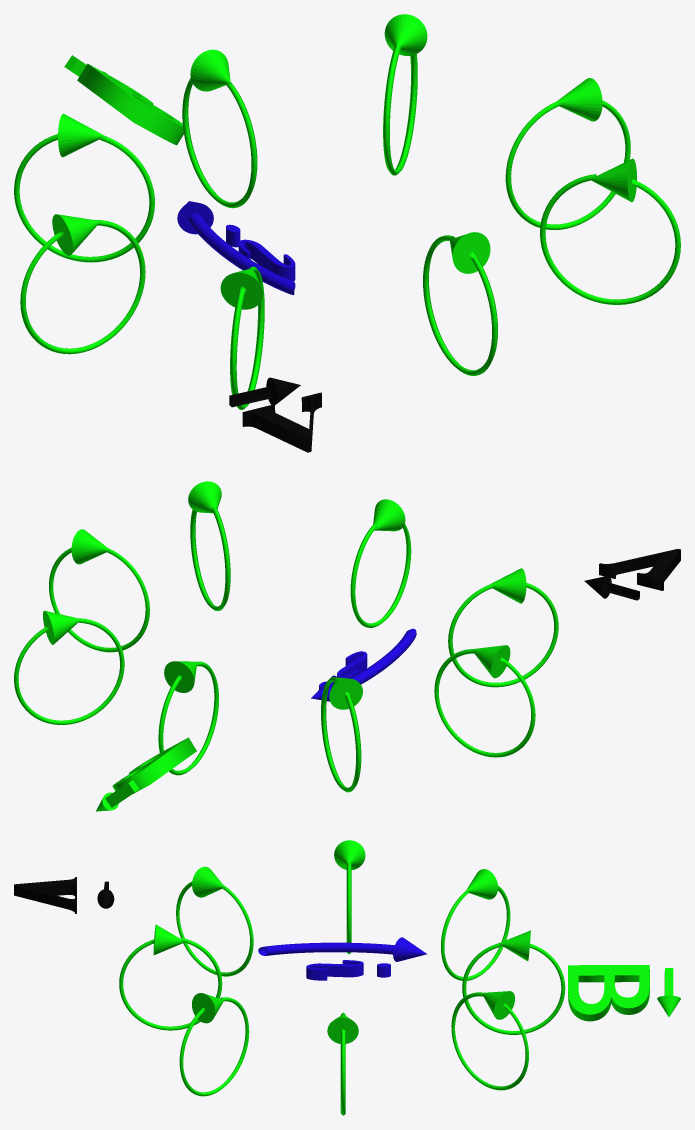
The model's file is cpInter.dae.
3 renders of one model, top to bottom at view 1: azimuth 30°, elevation 25°; view 2: azimuth 150°, elevation 25°; view 3: azimuth 270°, elevation 25°, orthographic. The views are drawn at different scales.
Parts seen in each view (by area): view 1: Cube.001, Cube.002, Texto.005, Cono.001, NurbsCurve, Texto.011; view 2: Cube.001, Cube.002, Cono.001, Texto.005, NurbsCurve, Texto.011; view 3: Cube.001, Cube.002, Texto.005, NurbsCurve, Cono.001, Texto.011.
Boxes of the visible parts, x1,y1,x2,y2 form: Cube.001: (14, 14, 680, 409); Cube.002: (20, 49, 630, 375); Texto.005: (64, 55, 183, 145); Cono.001: (229, 377, 321, 452); NurbsCurve: (177, 201, 295, 295); Texto.011: (226, 224, 295, 281); Cube.001: (14, 481, 558, 792); Cube.002: (49, 499, 535, 775); Cono.001: (584, 549, 680, 600); Texto.005: (96, 737, 196, 811); NurbsCurve: (311, 628, 416, 701); Texto.011: (319, 651, 367, 689); Cube.001: (176, 866, 528, 1096); Cube.002: (119, 840, 565, 1115); Texto.005: (568, 965, 680, 1021); NurbsCurve: (258, 937, 427, 961); Cono.001: (14, 877, 114, 913); Texto.011: (306, 960, 390, 980).
Size of the model in its own units: 1.36 by 1.81 by 0.337.
